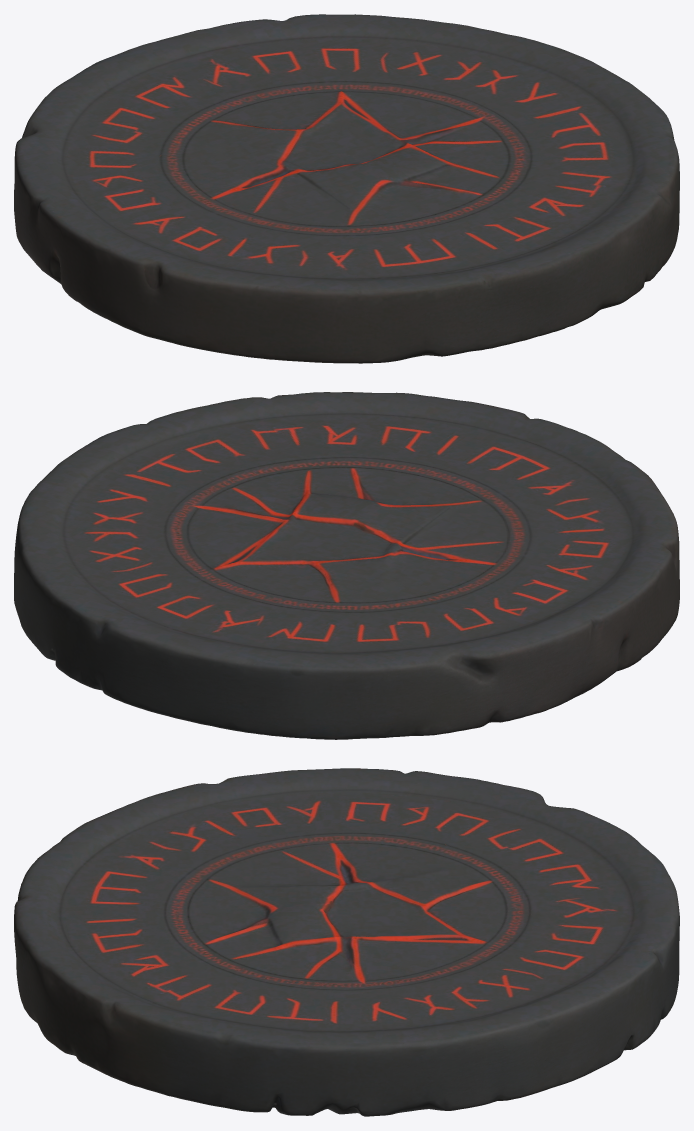
The model's file is ritual_circle.glb.
3 views of the same model, one above another, from view 1: azimuth 30°, elevation 25°; view 2: azimuth 150°, elevation 25°; view 3: azimuth 270°, elevation 25° (orthographic).
Bounding box in the file's own units: 2 × 0.2477 × 2.
Materials: 1 (1 with a texture image).
